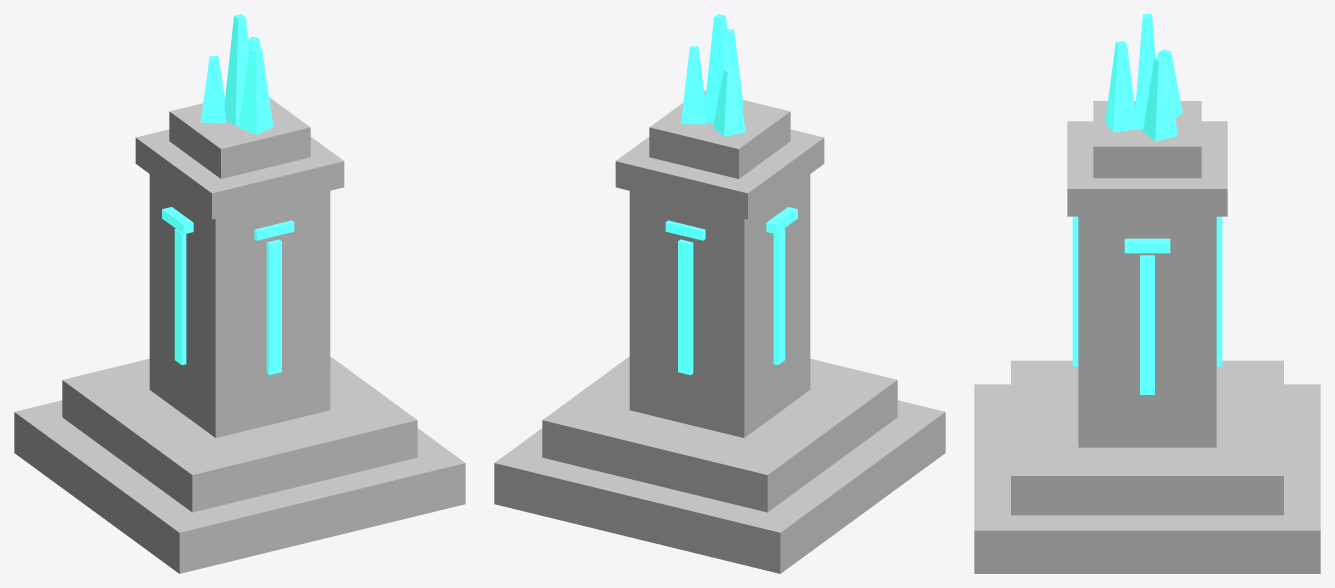
The model's file is waypoint_shrine.glb.
3 renders of one model, left to right at view 1: azimuth 30°, elevation 25°; view 2: azimuth 150°, elevation 25°; view 3: azimuth 270°, elevation 25°, orthographic. The views are drawn at different scales.
Parts seen in each view (by area): view 1: waypoint_shrine; view 2: waypoint_shrine; view 3: waypoint_shrine.
Boxes of the visible parts, x1,y1,x2,y2 form: waypoint_shrine: (14,14,465,573); waypoint_shrine: (494,14,945,573); waypoint_shrine: (974,14,1320,573).
Size of the model in its own units: 1.6 by 2.47 by 1.6.
